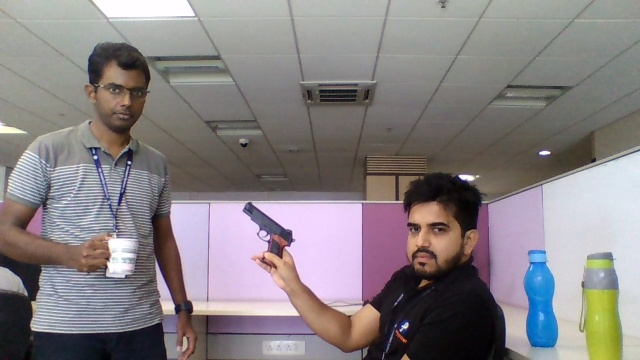gun: (240, 200, 296, 251)
